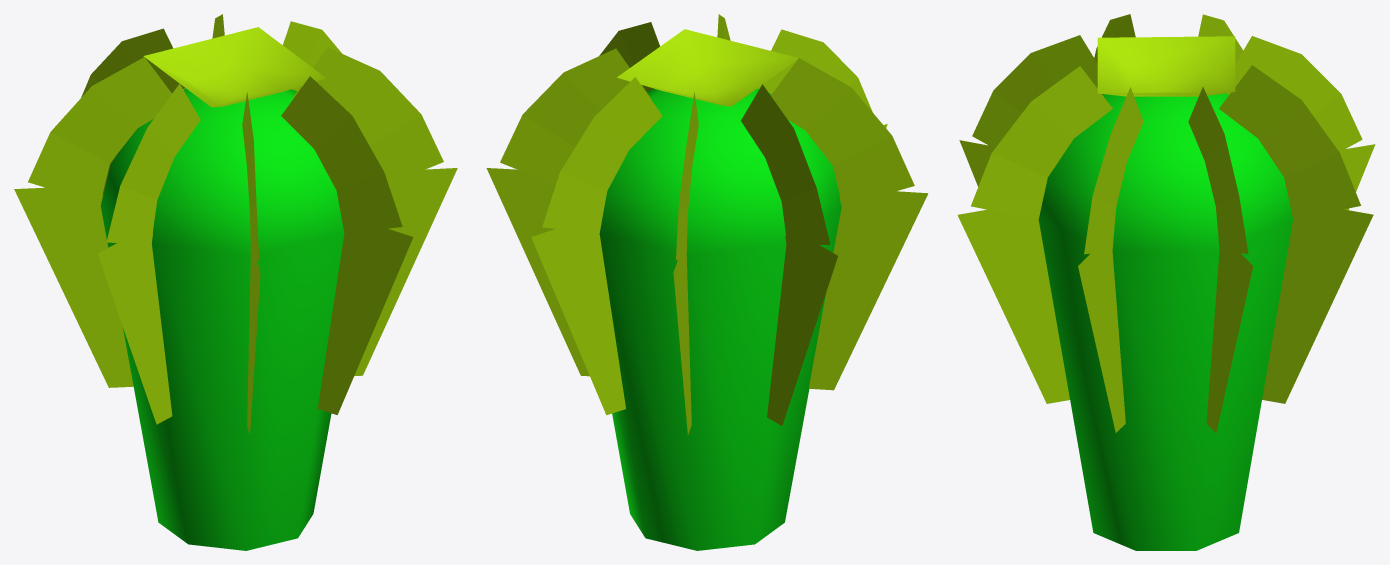
Rendered from CactusSmall1.gltf.
3 renders of one model, left to right at view 1: azimuth 30°, elevation 25°; view 2: azimuth 150°, elevation 25°; view 3: azimuth 270°, elevation 25°, orthographic.
Parts seen in each view (by area): view 1: Cactus_Small_4; view 2: Cactus_Small_4; view 3: Cactus_Small_4.
Boxes of the visible parts, box(x1,y1,x2,y2) form: Cactus_Small_4: box(14, 14, 457, 550); Cactus_Small_4: box(486, 14, 928, 550); Cactus_Small_4: box(957, 14, 1375, 550).
Size of the model in its own units: 0.5253 by 0.653 by 0.5268.
